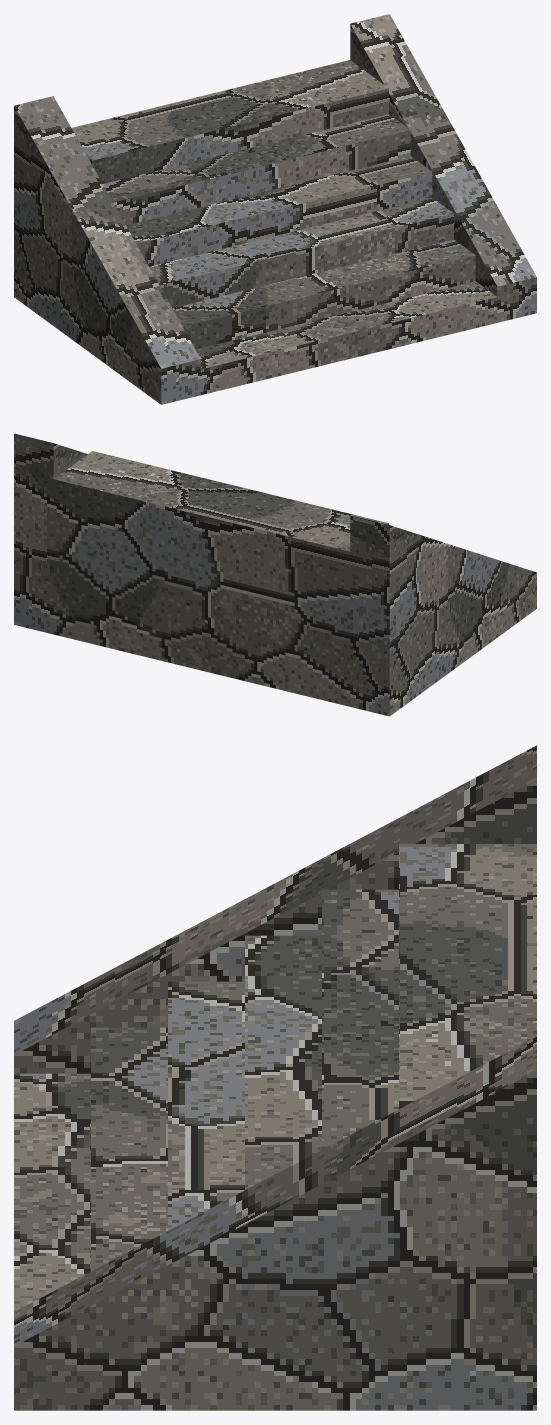
File: JP_Stairs_Granite_3m.glb
3 renders of one model, top to bottom at view 1: azimuth 30°, elevation 25°; view 2: azimuth 150°, elevation 25°; view 3: azimuth 270°, elevation 25°, orthographic. The views are drawn at different scales.
Visible parts, largest first — view 1: JP_Stairs_Granite_3m; view 2: JP_Stairs_Granite_3m; view 3: JP_Stairs_Granite_3m.
Boxes of the visible parts, x1,y1,x2,y2 form: JP_Stairs_Granite_3m: [14, 14, 536, 404]; JP_Stairs_Granite_3m: [14, 433, 536, 716]; JP_Stairs_Granite_3m: [14, 745, 536, 1410].
Size of the model in its own units: 3.8 by 1.85 by 2.58.
Materials: 1 (1 with a texture image).
